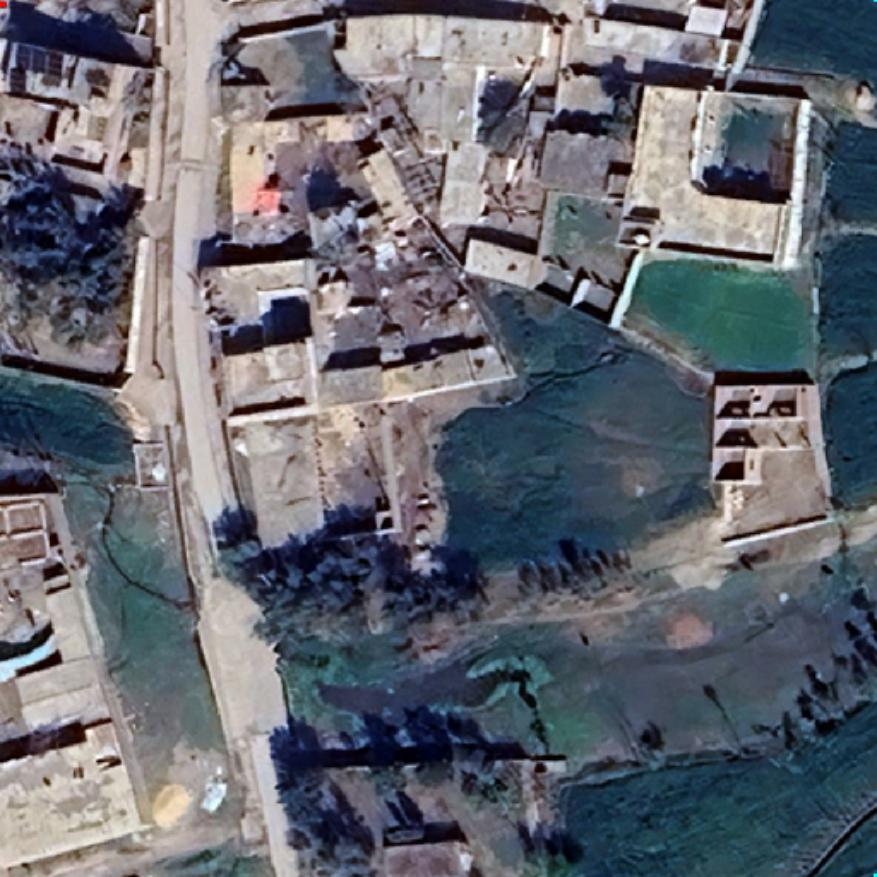Solarpanel: (9, 38, 69, 88)
